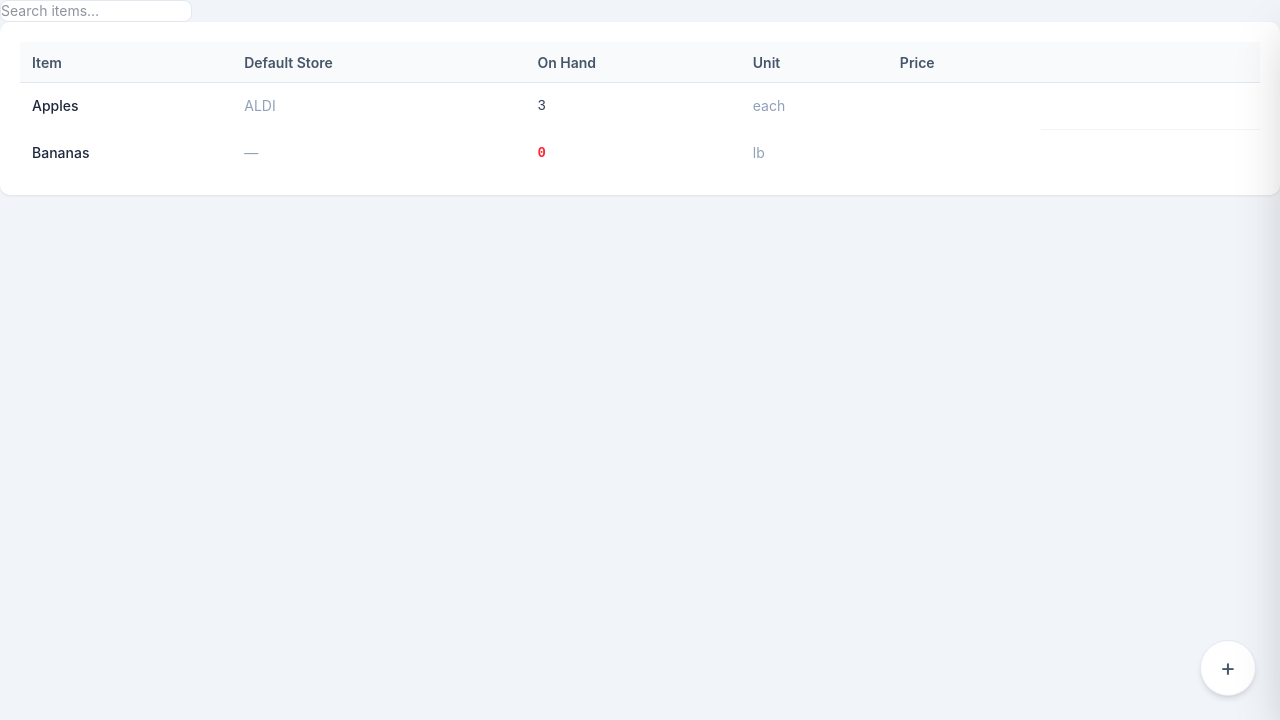
Test case: OnHandView — create item error › shows error when createGroceryItem fails
Expected: the text "Apples" is shown, [20, 83, 232, 129]
Click the button titled "Add catalog item" at (1228, 668), box [1200, 640, 1256, 696]
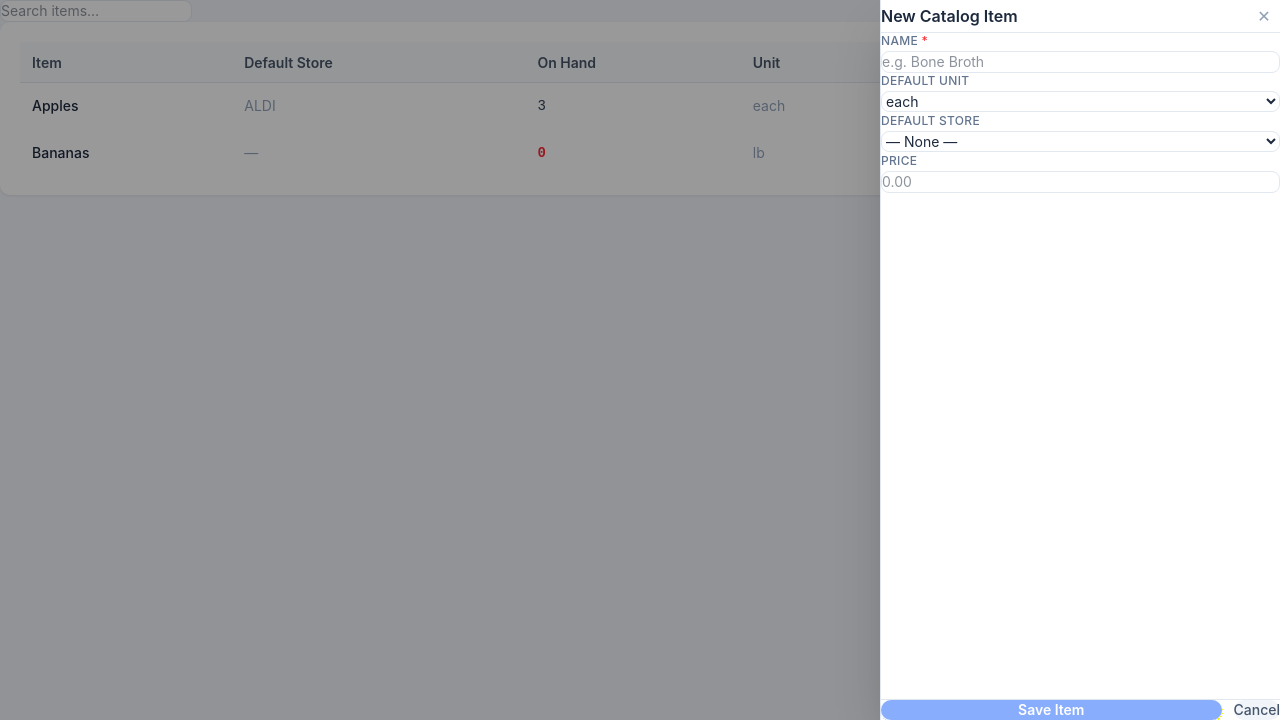
Type "NewItem" into the field with placeholder "e.g. Bone Broth" at (1080, 62), box [881, 51, 1279, 73]
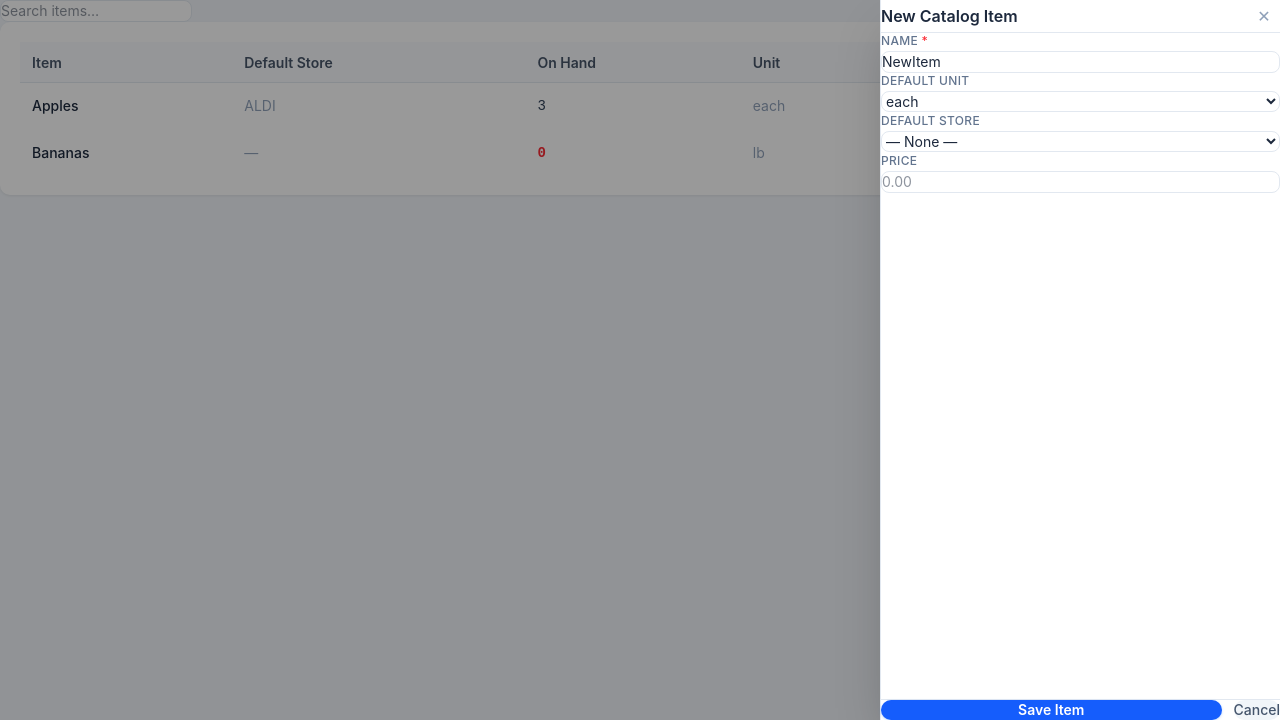
Click the button "Save Item" at (1051, 710), box [881, 700, 1222, 719]
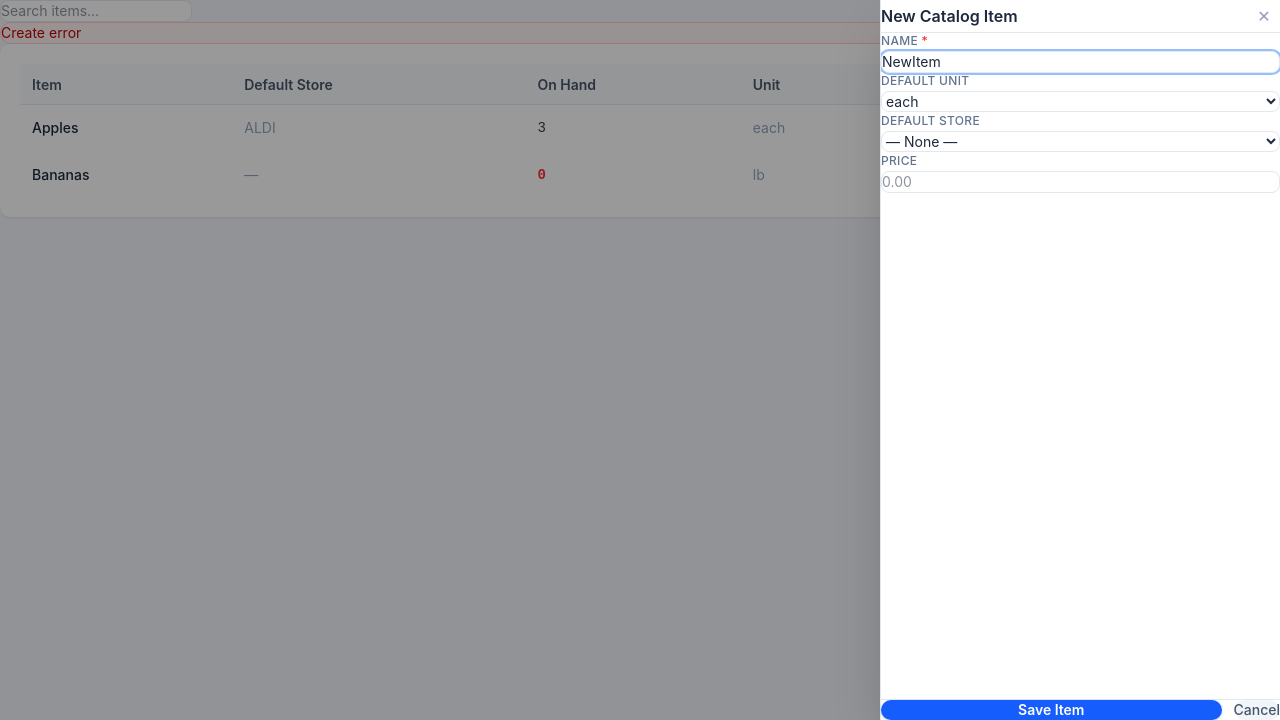
Expected: the text "Create error" is shown, [1, 23, 81, 43]
